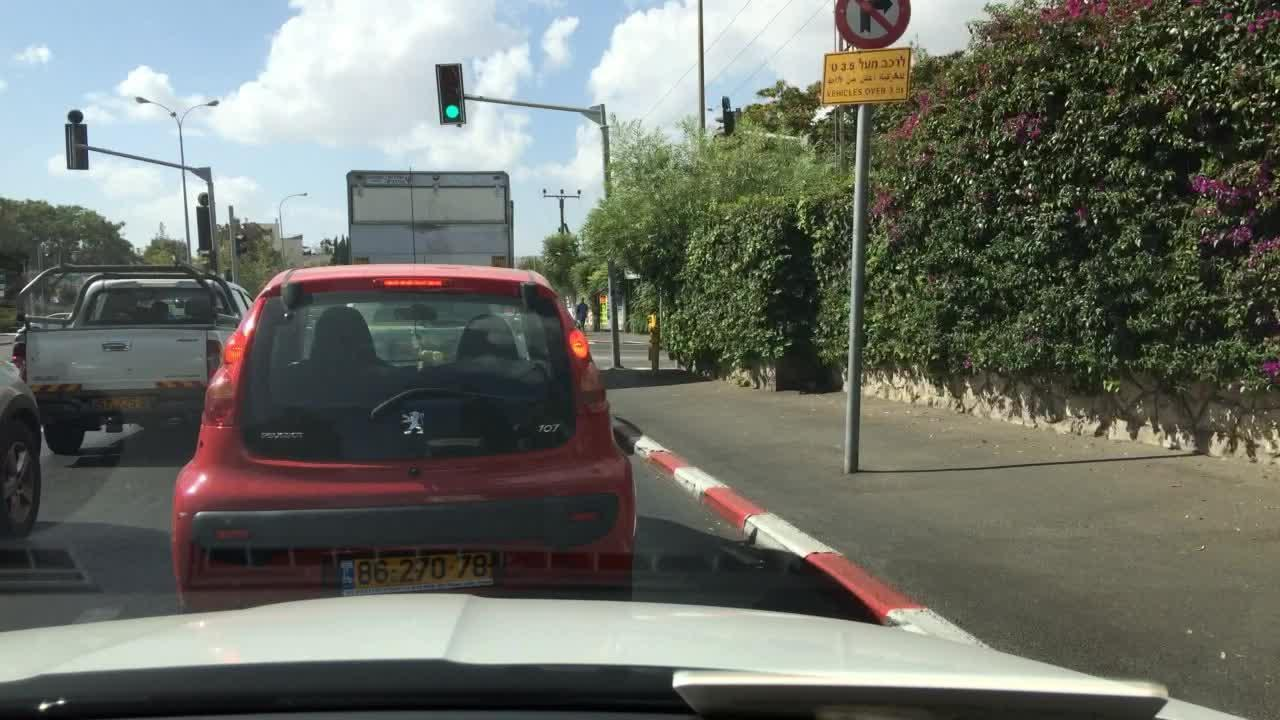no class: (393, 400, 434, 446)
